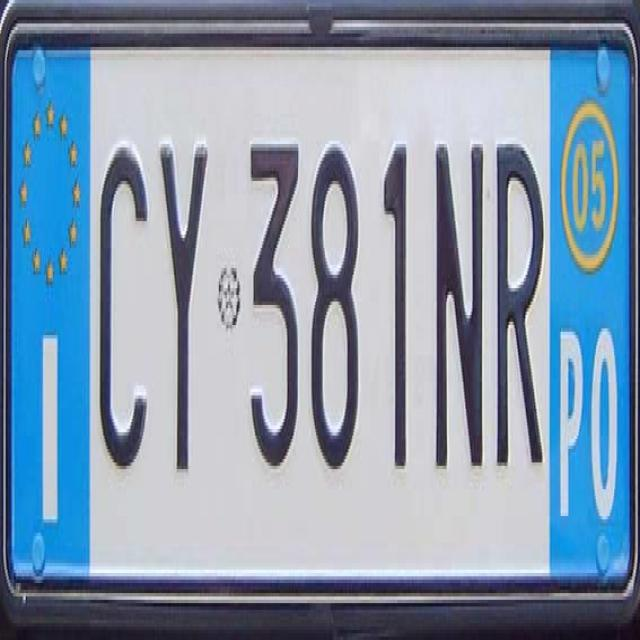EU: (0, 1, 640, 608)
Italie: (9, 45, 92, 577)
